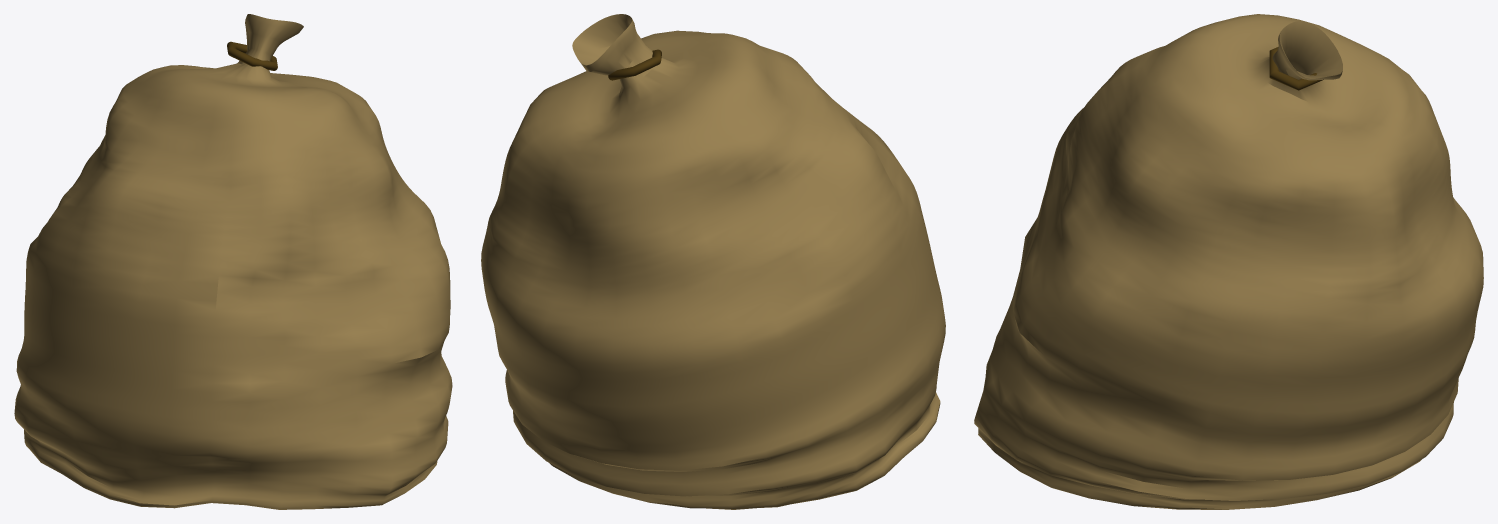
The model's file is Beutel.fbx.
3 views of the same model, side by side, from view 1: azimuth 30°, elevation 25°; view 2: azimuth 150°, elevation 25°; view 3: azimuth 270°, elevation 25° (orthographic). The views are drawn at different scales.
Visible parts, largest first — view 1: beutel_3, Sweep; view 2: beutel_3, Sweep; view 3: beutel_3, Sweep.
Boxes of the visible parts, left/top/right/bottom form: beutel_3: left=14, top=14, right=452, bottom=509; Sweep: left=227, top=41, right=277, bottom=70; beutel_3: left=481, top=14, right=945, bottom=509; Sweep: left=608, top=49, right=661, bottom=80; beutel_3: left=974, top=14, right=1483, bottom=509; Sweep: left=1269, top=47, right=1323, bottom=90.
Size of the model in its own units: 68.16 by 67.74 by 72.58.
